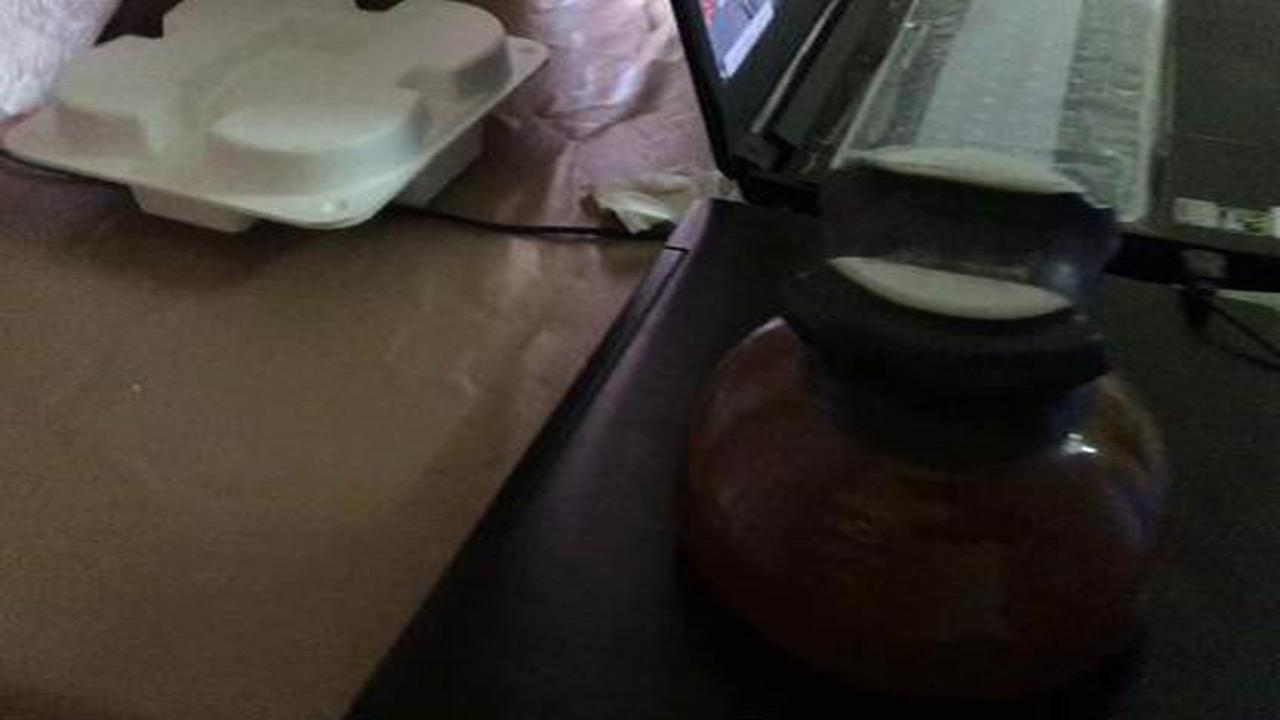insulator_pin: (665, 127, 1204, 700)
